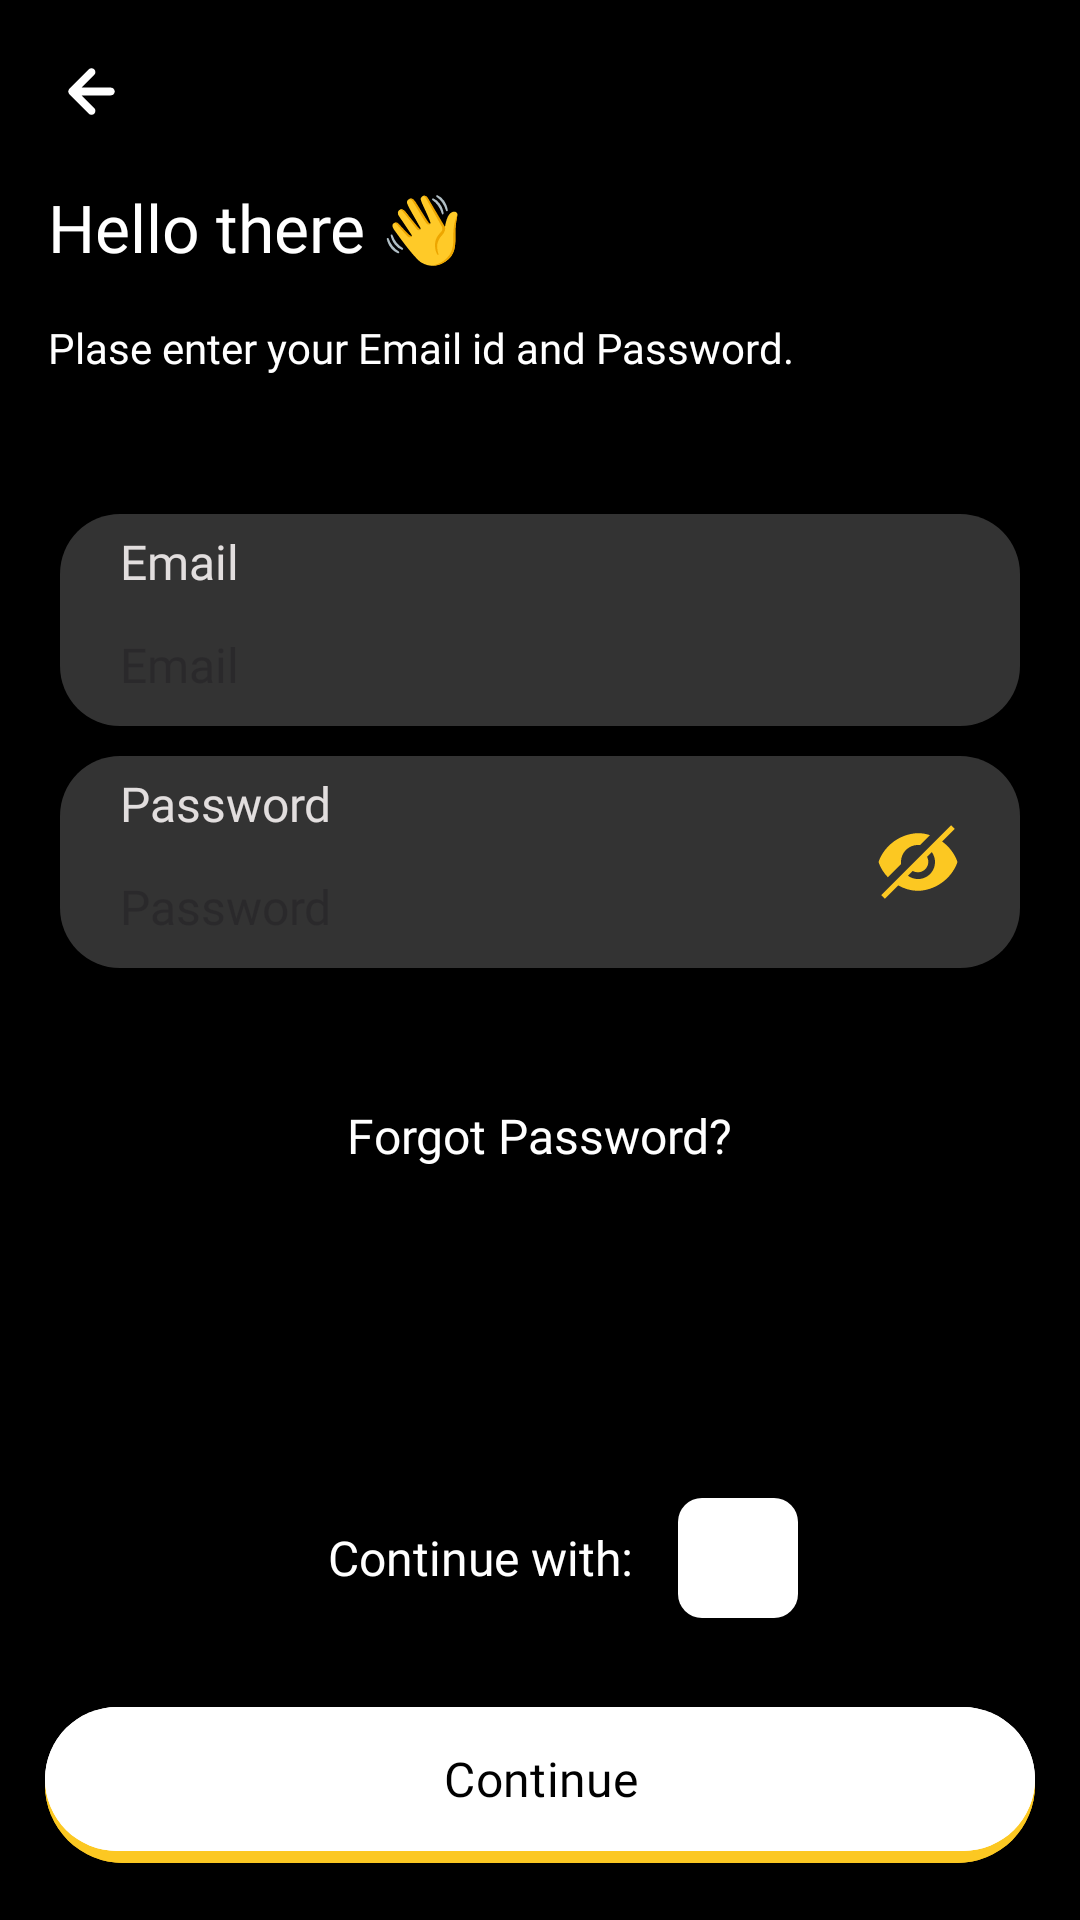

Named icons in this screenshot (1080*1920) and their centers, (x=x, y=y):
back: (x=91, y=91)
eye hide: (x=918, y=862)
